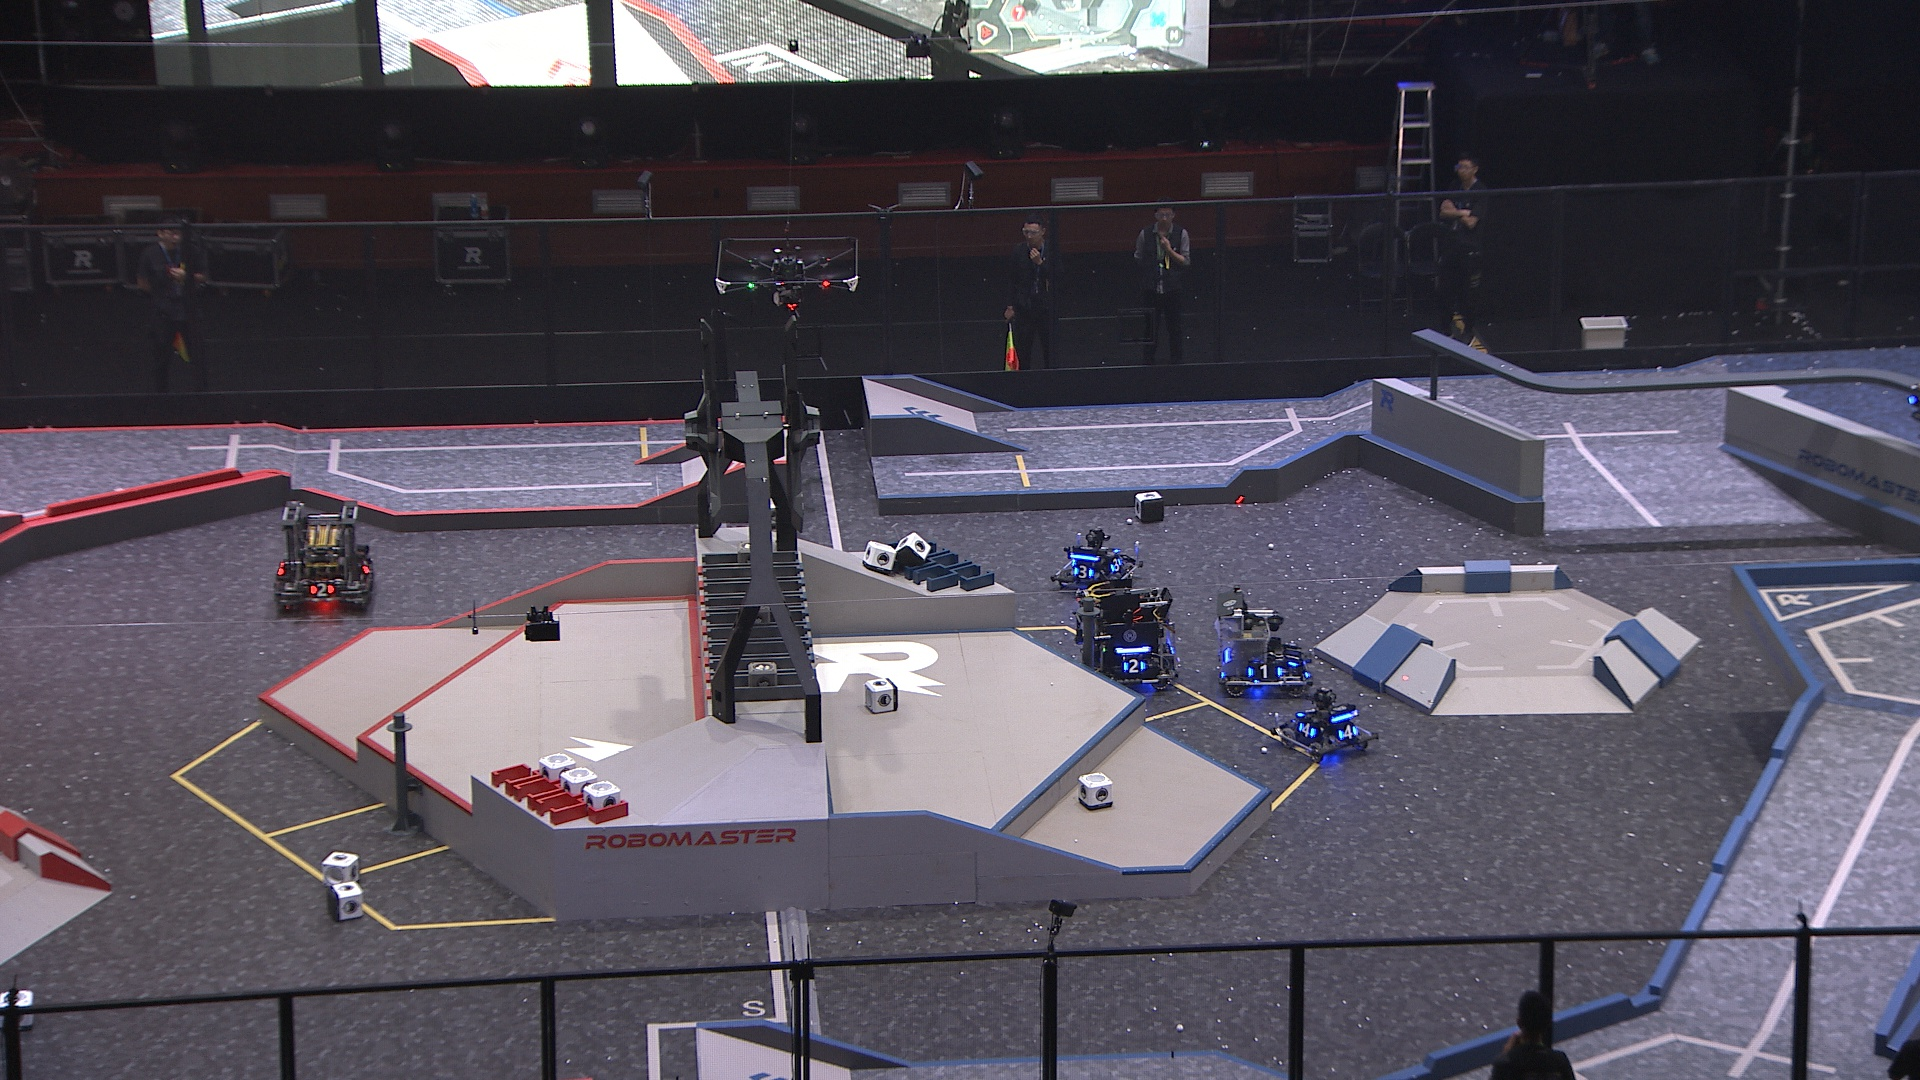armor: (1247, 665, 1283, 680), (309, 580, 334, 597), (1295, 719, 1316, 738), (1121, 659, 1149, 674), (1283, 647, 1302, 669), (1073, 564, 1093, 580), (359, 560, 372, 583), (1338, 725, 1358, 740), (1296, 705, 1316, 719), (1109, 556, 1122, 572), (1907, 392, 1920, 407)
car: (269, 495, 381, 612), (1077, 576, 1178, 695), (1212, 585, 1315, 699), (1271, 684, 1378, 761), (1050, 527, 1149, 593)
watcher: (1904, 377, 1920, 425)
